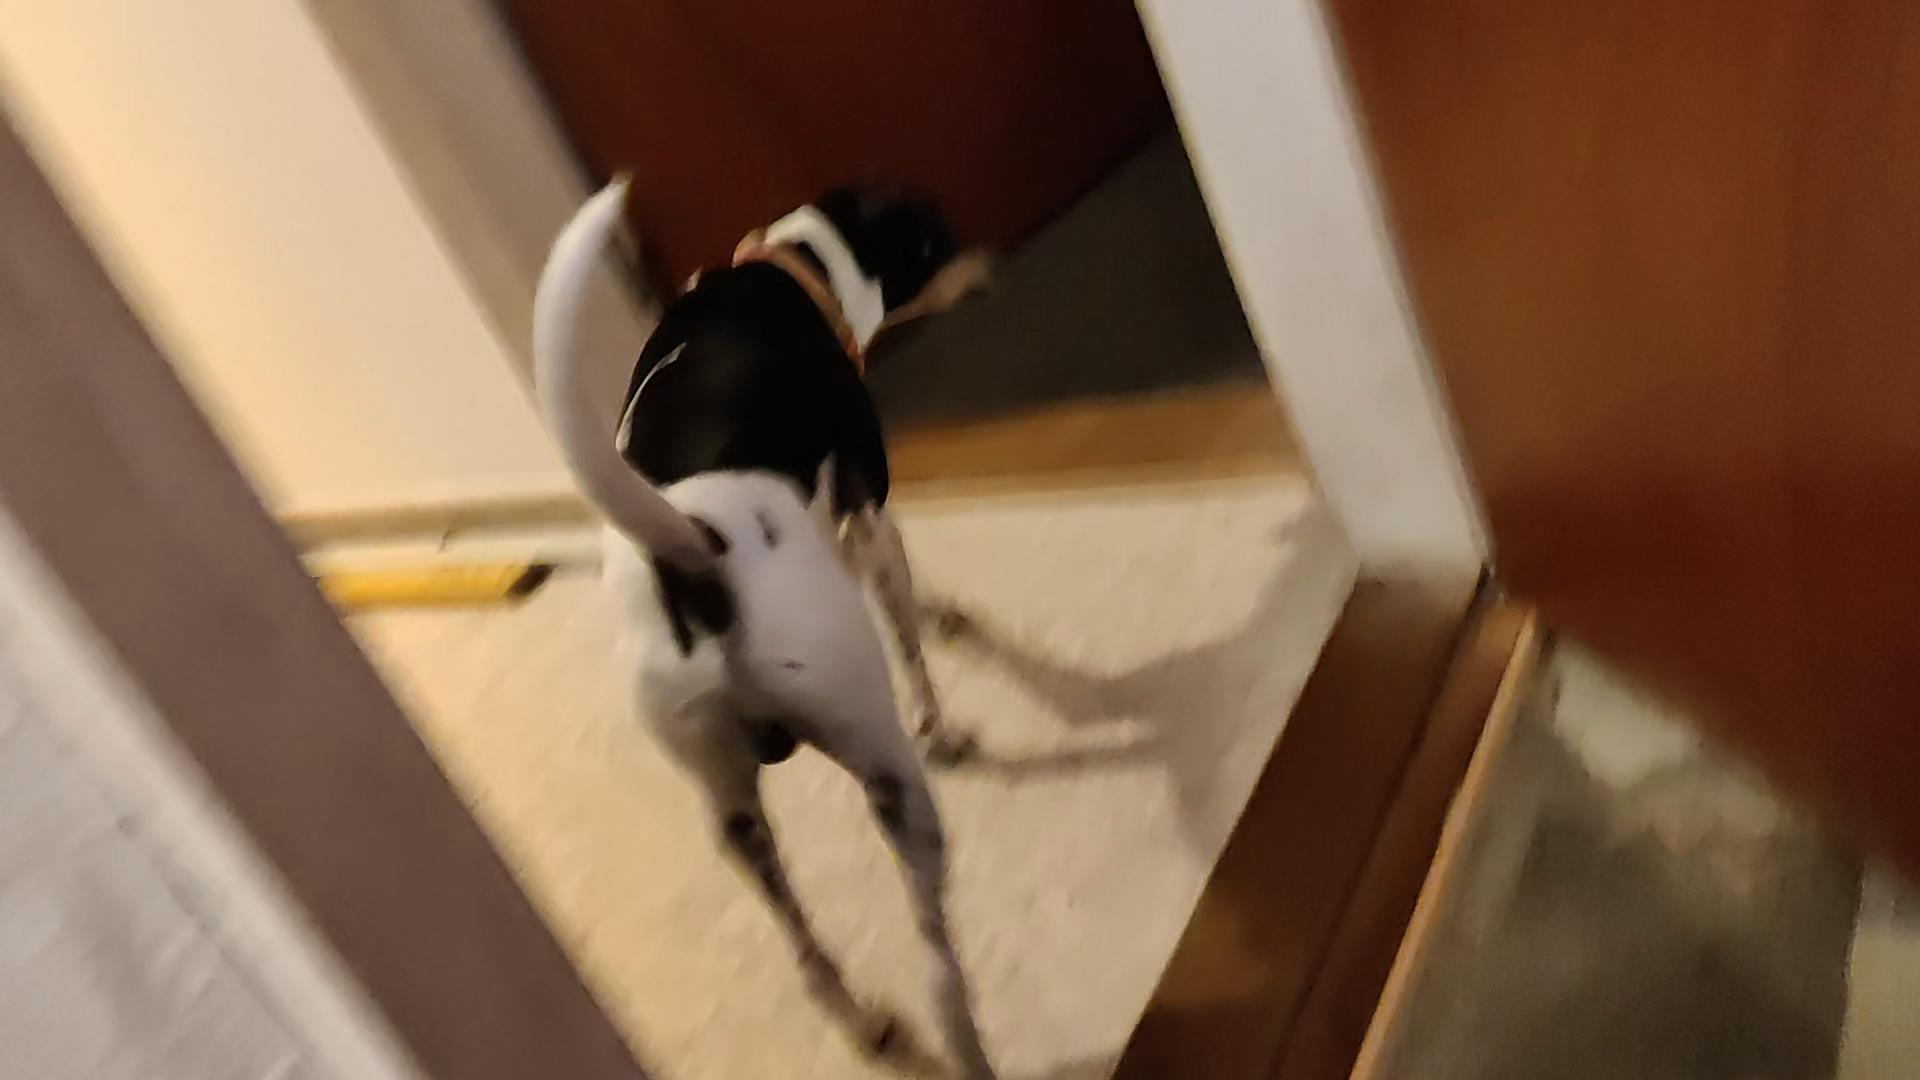Dog: (479, 131, 1069, 1079)
